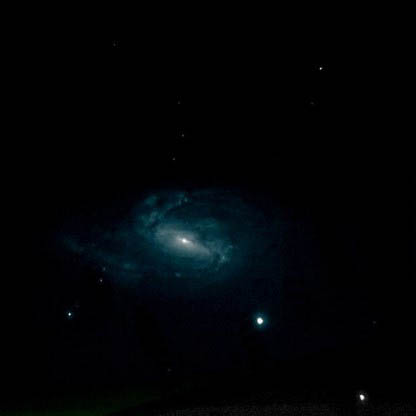Messier 66: (110, 177, 286, 334)
